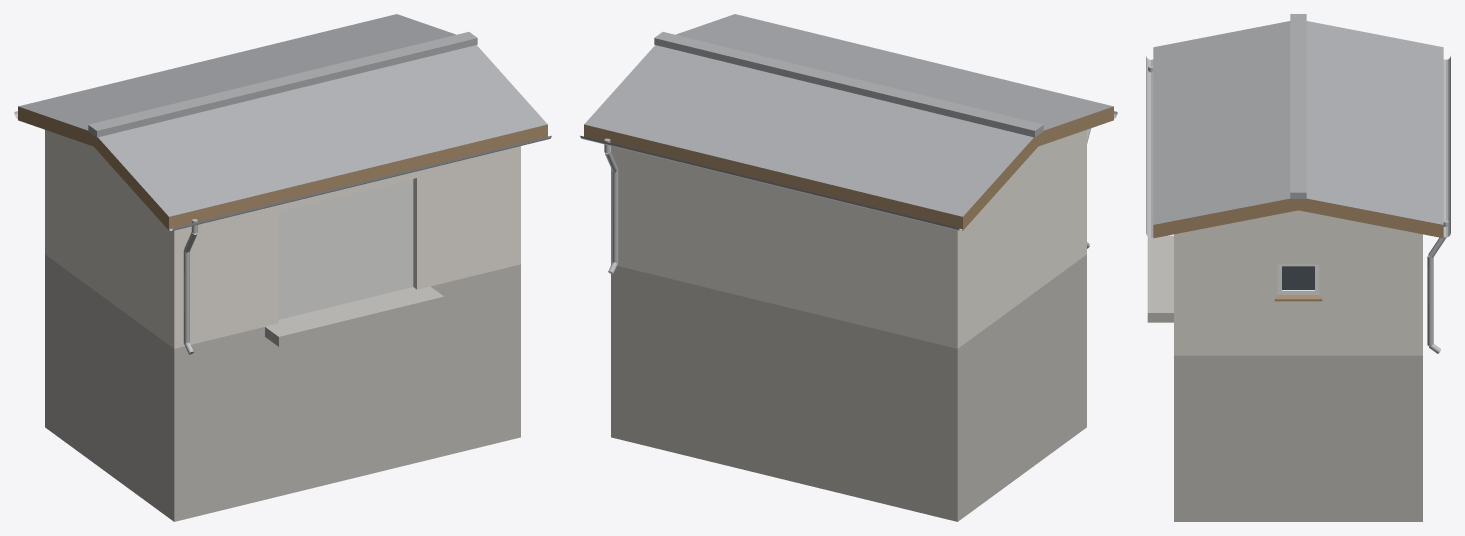
Rendered from garage_m.glb.
3 views of the same model, side by side, from view 1: azimuth 30°, elevation 25°; view 2: azimuth 150°, elevation 25°; view 3: azimuth 270°, elevation 25° (orthographic). The views are drawn at different scales.
Parts seen in each view (by area): view 1: garage_m; view 2: garage_m; view 3: garage_m.
Boxes of the visible parts, x1,y1,x2,y2 form: garage_m: (14, 14, 551, 521); garage_m: (580, 14, 1117, 521); garage_m: (1146, 14, 1450, 521).
Bounding box in the file's own units: 7.14 × 6.29 × 5.15.
